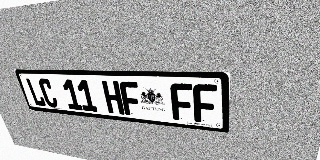1: (75, 80, 98, 112), (60, 79, 83, 110)
C: (37, 78, 59, 108)
F: (193, 84, 217, 124), (170, 83, 194, 122), (119, 81, 142, 116)
H: (101, 81, 125, 115)
L: (25, 78, 47, 107)
